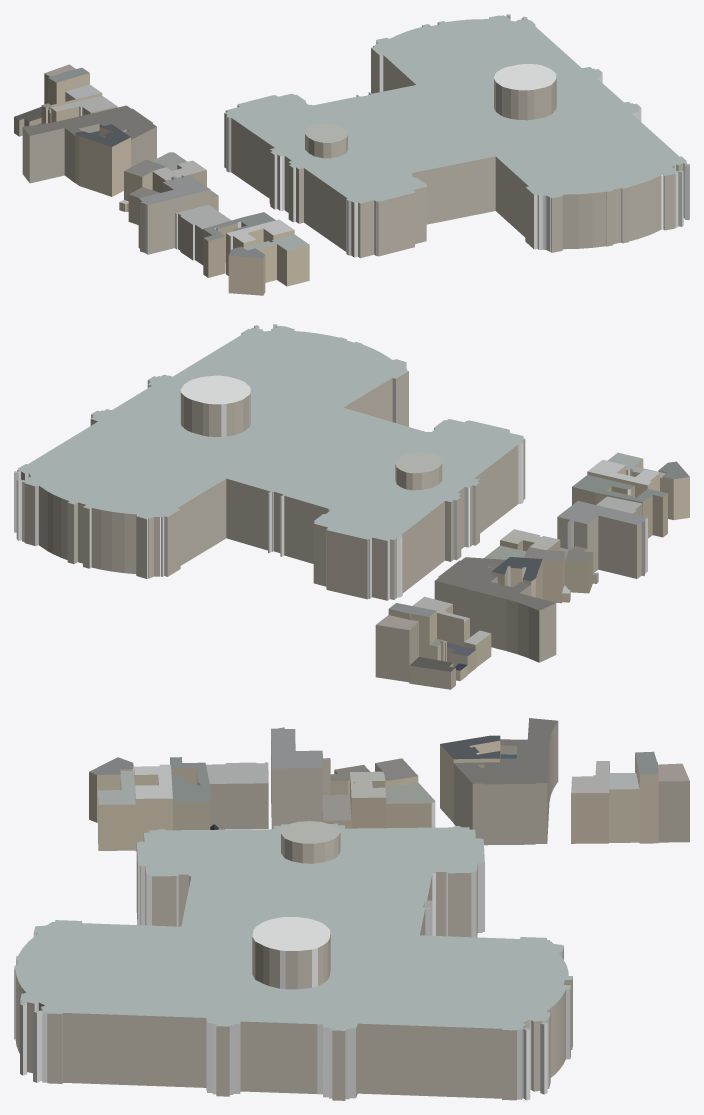
3 renders of one model, top to bottom at view 1: azimuth 30°, elevation 25°; view 2: azimuth 150°, elevation 25°; view 3: azimuth 270°, elevation 25°, orthographic. The views are drawn at different scales.
Parts seen in each view (by area): view 1: tuile; view 2: tuile; view 3: tuile.
Boxes of the visible parts, box(x1,y1,x2,y2) form: tuile: box(14, 14, 689, 295); tuile: box(14, 324, 689, 689); tuile: box(14, 718, 689, 1100).
Size of the model in its own units: 316 by 51.22 by 290.
